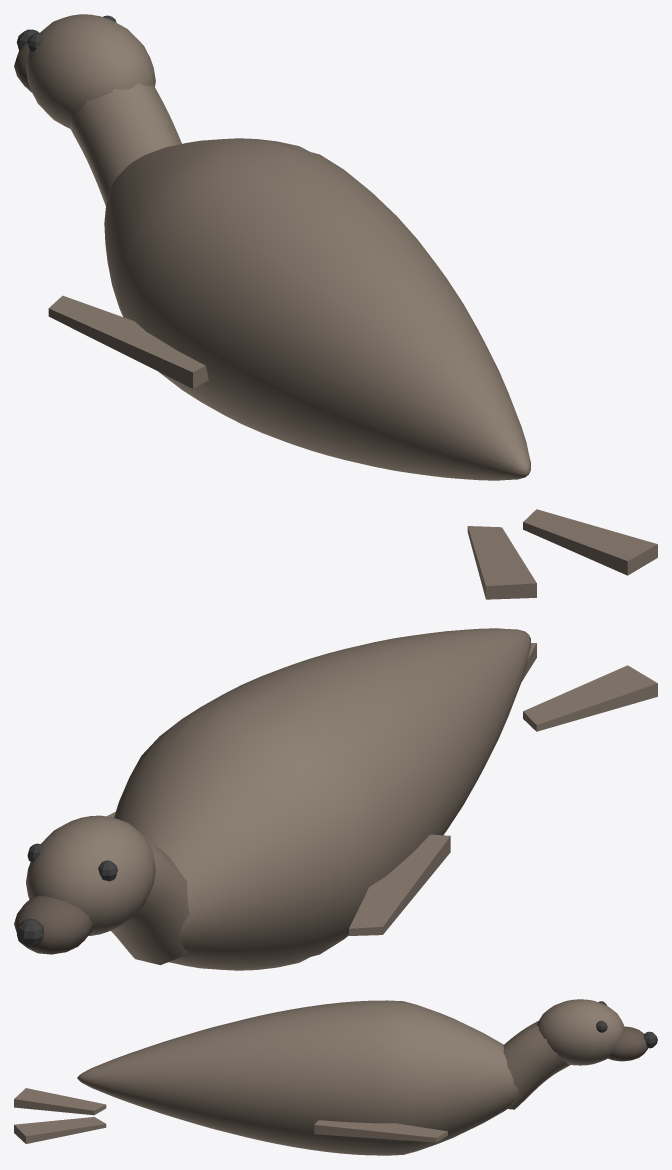
Rendered from sealion_swim.glb.
The picture shows the model from 3 angles, top to bottom: view 1: azimuth 30°, elevation 25°; view 2: azimuth 150°, elevation 25°; view 3: azimuth 270°, elevation 25°; orthographic projection. The views are drawn at different scales.
Parts seen in each view (by area): view 1: sealion_swim; view 2: sealion_swim; view 3: sealion_swim.
Part boxes in pixels (x1=…): sealion_swim: x1=14, y1=14, x2=657, y2=599; sealion_swim: x1=14, y1=628, x2=657, y2=970; sealion_swim: x1=14, y1=999, x2=657, y2=1155.
Bounding box in the file's own units: 1.06 × 0.7641 × 3.07.
